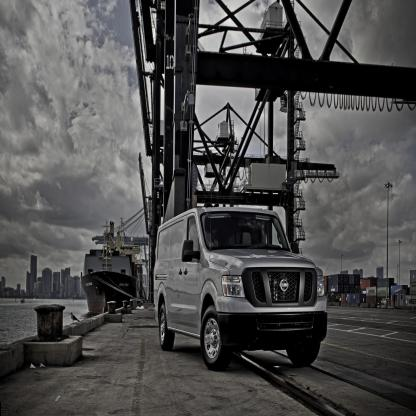Vehicle: (135, 176, 346, 392)
